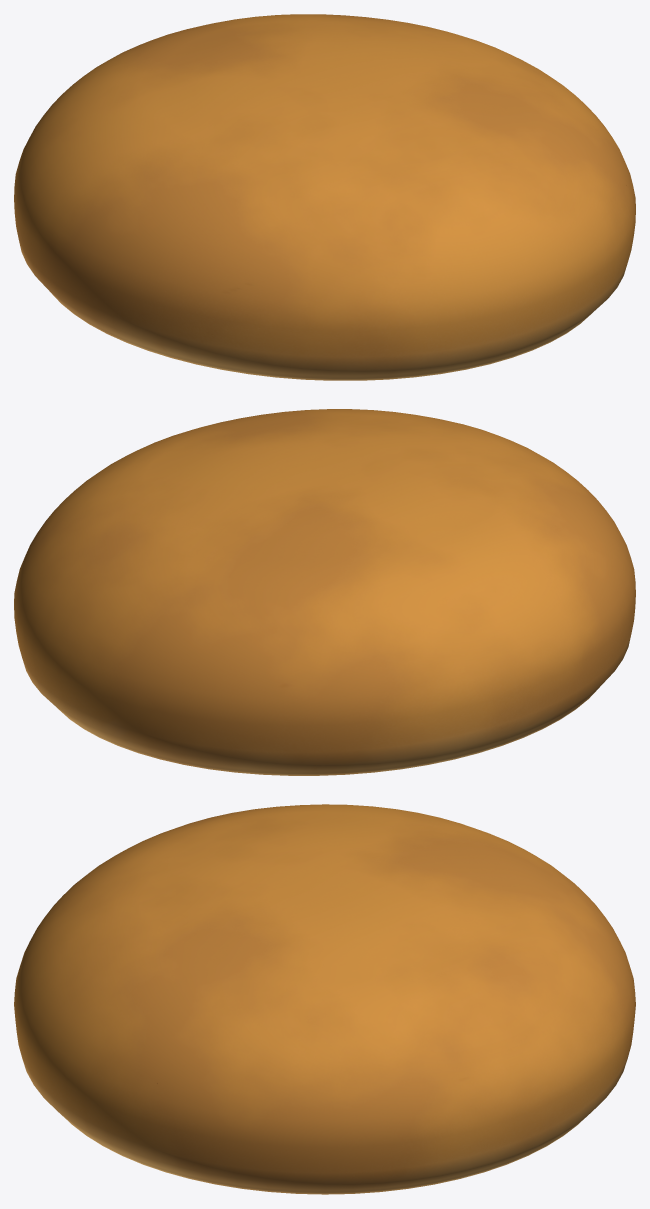
File: bread_up.gltf
3 renders of one model, top to bottom at view 1: azimuth 30°, elevation 25°; view 2: azimuth 150°, elevation 25°; view 3: azimuth 270°, elevation 25°, orthographic.
Parts seen in each view (by area): view 1: Cylinder.001; view 2: Cylinder.001; view 3: Cylinder.001.
Boxes of the visible parts, x1=… form: Cylinder.001: x1=14, y1=14, x2=635, y2=380; Cylinder.001: x1=14, y1=409, x2=635, y2=775; Cylinder.001: x1=14, y1=804, x2=635, y2=1194.
Size of the model in its own units: 2.04 by 0.7225 by 2.04.
1 material, 1 textured.
